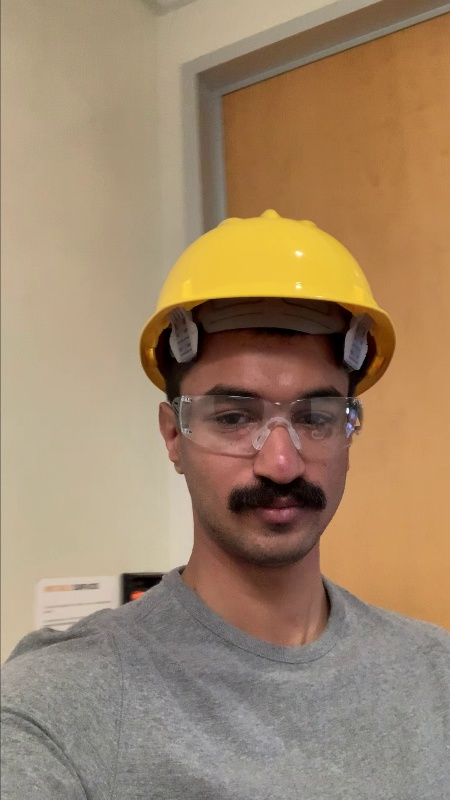glasses: (172, 388, 364, 462)
helmet: (140, 203, 403, 363)
